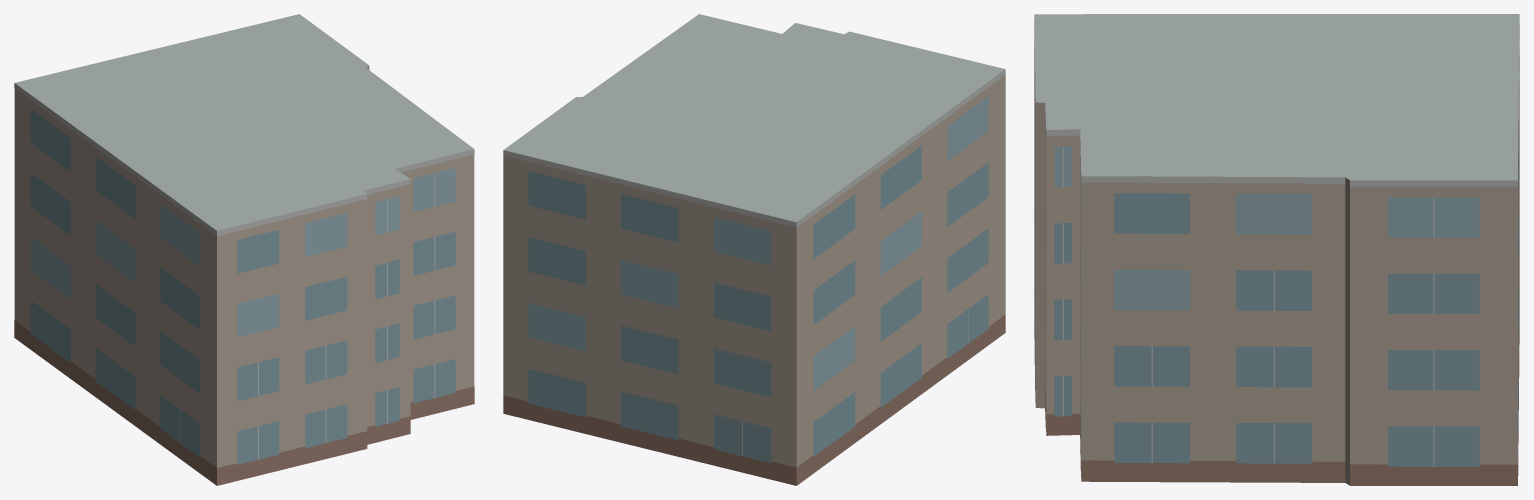
The model's file is survey-upis-32822504.glb.
The picture shows the model from 3 angles, left to right: view 1: azimuth 30°, elevation 25°; view 2: azimuth 150°, elevation 25°; view 3: azimuth 270°, elevation 25°; orthographic projection. The views are drawn at different scales.
Parts seen in each view (by area): view 1: survey-upis-32822504.tmp; view 2: survey-upis-32822504.tmp; view 3: survey-upis-32822504.tmp.
Part boxes in pixels (x1,y1,x2,y2): survey-upis-32822504.tmp: (14, 14, 474, 485); survey-upis-32822504.tmp: (503, 14, 1005, 485); survey-upis-32822504.tmp: (1034, 14, 1519, 485).
Bounding box in the file's own units: 13.79 × 11.8 × 16.99.
